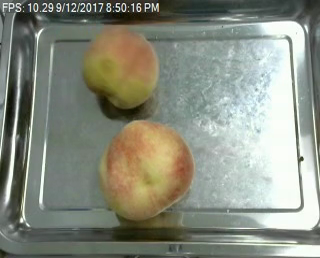Peach: (101, 120, 195, 220), (81, 25, 159, 108)
